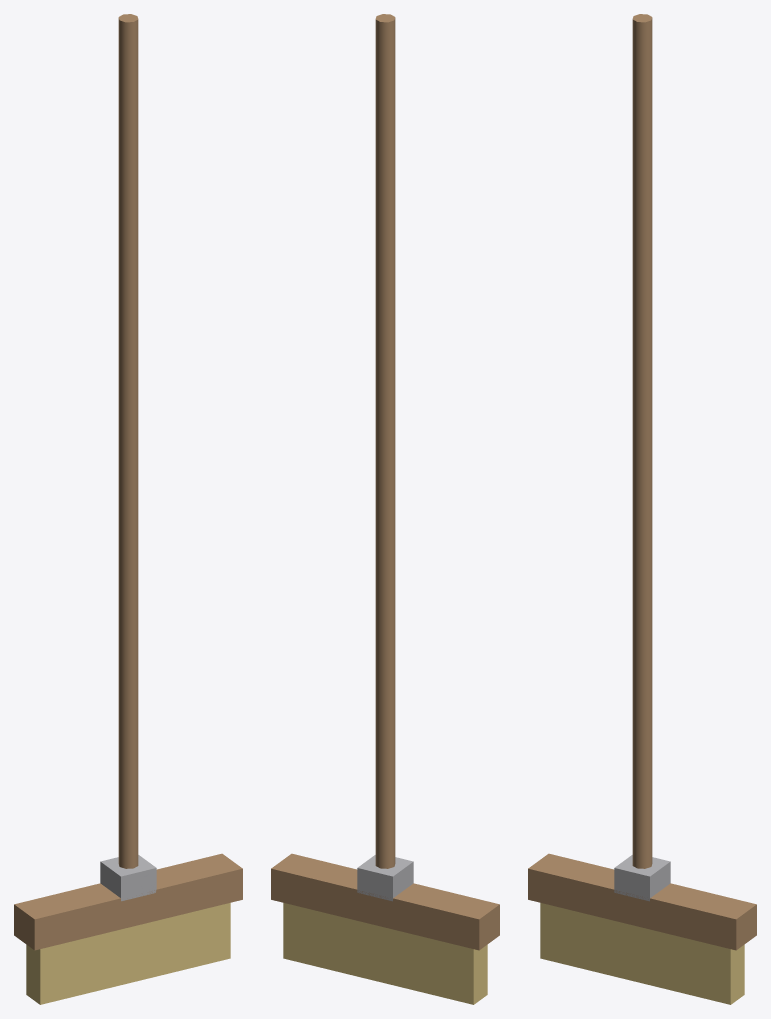
Rendered from broom.glb.
3 renders of one model, left to right at view 1: azimuth 30°, elevation 25°; view 2: azimuth 150°, elevation 25°; view 3: azimuth 330°, elevation 25°, orthographic.
Parts seen in each view (by area): view 1: handle, bristles, head, ferrule; view 2: handle, bristles, head, ferrule; view 3: handle, bristles, head, ferrule.
Boxes of the visible parts, x1,y1,x2,y2 form: handle: (118,14,138,868); bristles: (26,903,230,1004); head: (14,853,242,950); ferrule: (100,855,156,901); handle: (375,14,395,868); bristles: (283,903,487,1004); head: (271,853,499,950); ferrule: (357,855,413,901); handle: (632,14,652,868); bristles: (540,903,744,1004); head: (528,853,756,950); ferrule: (614,855,670,901).
Bounding box in the file's own units: 0.35 × 1.54 × 0.06.
